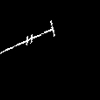treble_crochet: (1, 21, 54, 52)
